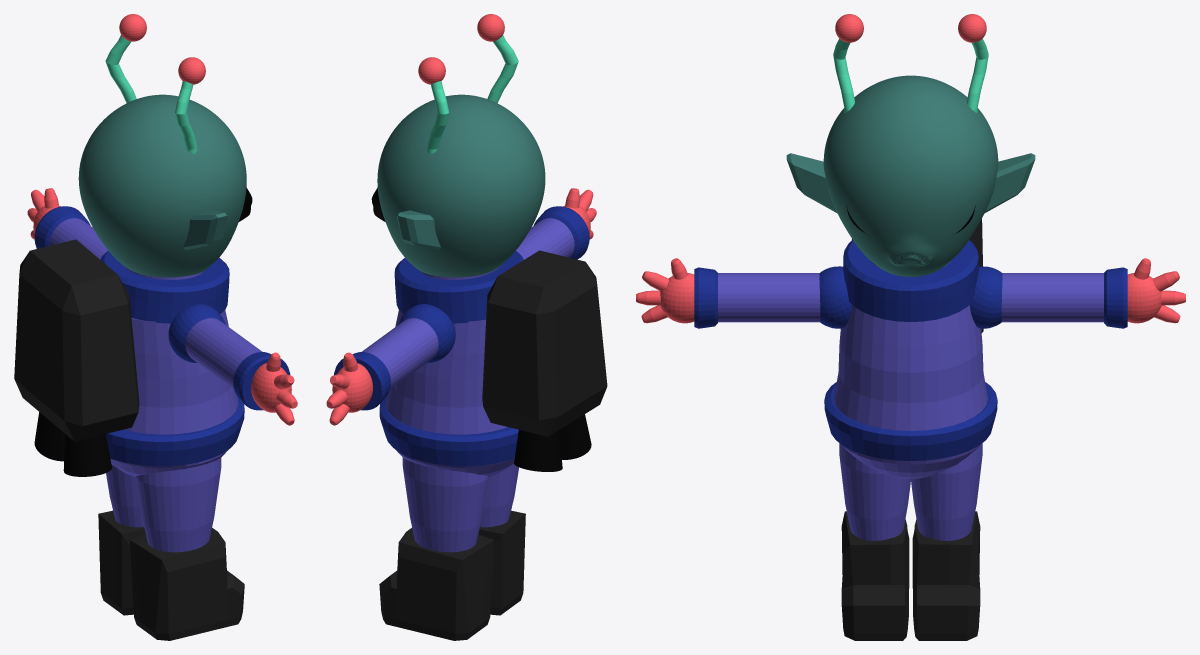
Rendered from bigAlien.fbx.
3 renders of one model, left to right at view 1: azimuth 30°, elevation 25°; view 2: azimuth 150°, elevation 25°; view 3: azimuth 270°, elevation 25°, orthographic. The views are drawn at different scales.
Parts seen in each view (by area): view 1: JetPack, Head, Boots, Body, Leggies, Neckband, Waistband, Arms, WristCuffs, Cylinder, Fingers, Shoulders (+4 smaller); view 2: Head, JetPack, Boots, Leggies, Body, Arms, Waistband, Neckband, WristCuffs, Cylinder, Fingers, Shoulders (+4 smaller); view 3: Head, Body, Boots, Arms, Leggies, Neckband, Waistband, Shoulders, Cube, WristCuffs, Hands, Fingers (+3 smaller).
Boxes of the visible parts, bbox=[...] form: JetPack: bbox=[14, 239, 139, 476]; Head: bbox=[78, 94, 246, 277]; Boots: bbox=[98, 510, 244, 640]; Body: bbox=[124, 310, 238, 434]; Leggies: bbox=[106, 458, 221, 552]; Neckband: bbox=[100, 251, 229, 323]; Waistband: bbox=[106, 397, 244, 466]; Arms: bbox=[49, 218, 262, 388]; WristCuffs: bbox=[34, 206, 290, 410]; Cylinder: bbox=[105, 35, 197, 153]; Fingers: bbox=[27, 188, 297, 425]; Shoulders: bbox=[168, 304, 225, 362]; Head: bbox=[377, 94, 545, 277]; JetPack: bbox=[482, 250, 607, 471]; Boots: bbox=[379, 510, 525, 640]; Leggies: bbox=[402, 458, 518, 552]; Body: bbox=[386, 310, 507, 434]; Arms: bbox=[362, 218, 574, 389]; Waistband: bbox=[379, 397, 518, 466]; Neckband: bbox=[394, 251, 523, 323]; WristCuffs: bbox=[334, 206, 589, 410]; Cylinder: bbox=[427, 35, 518, 153]; Fingers: bbox=[326, 188, 596, 425]; Shoulders: bbox=[398, 304, 455, 362]; Head: bbox=[823, 75, 998, 276]; Body: bbox=[834, 305, 987, 430]; Boots: bbox=[841, 511, 980, 640]; Arms: bbox=[718, 273, 1103, 322]; Leggies: bbox=[839, 443, 982, 540]; Neckband: bbox=[843, 240, 978, 321]; Waistband: bbox=[824, 382, 997, 460]; Shoulders: bbox=[819, 266, 1002, 328]; Cube: bbox=[786, 153, 1035, 213]; WristCuffs: bbox=[694, 267, 1127, 328]; Hands: bbox=[660, 273, 1161, 323]; Fingers: bbox=[636, 258, 1185, 323].
Bounding box in the file's own units: 165 × 466 × 387.
